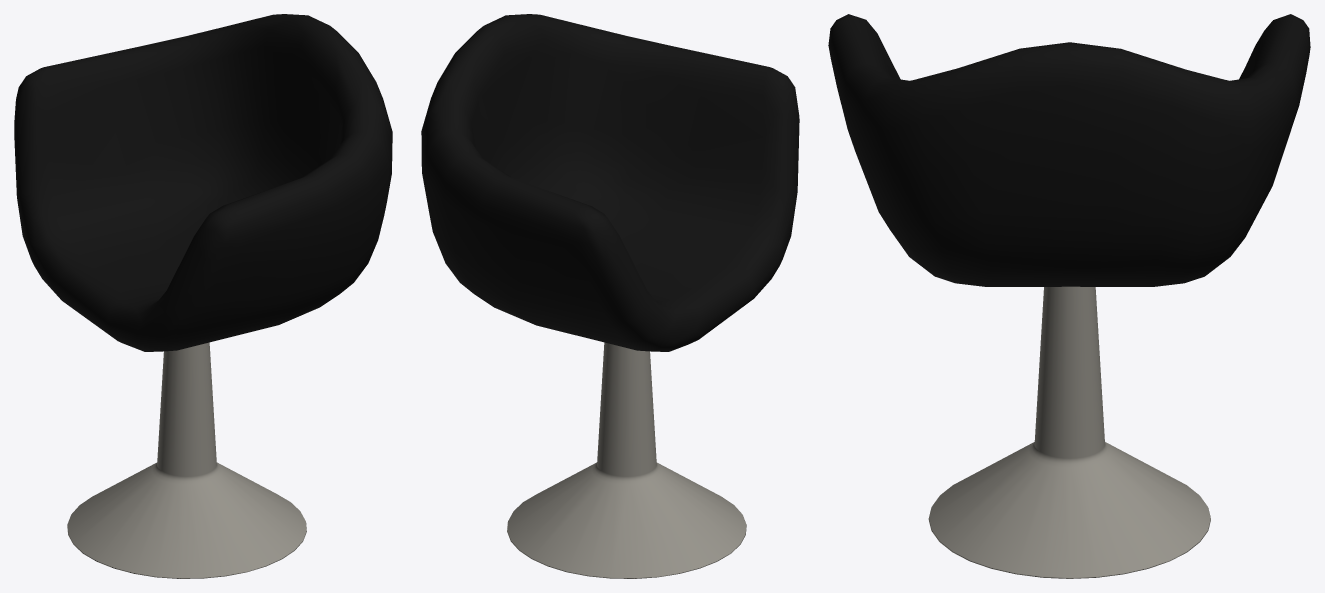
The model's file is chair_09_black.fbx.
3 views of the same model, side by side, from view 1: azimuth 30°, elevation 25°; view 2: azimuth 150°, elevation 25°; view 3: azimuth 270°, elevation 25° (orthographic). The views are drawn at different scales.
Visible parts, largest first — view 1: chair_09_black; view 2: chair_09_black; view 3: chair_09_black.
Part boxes in pixels (x1=…): chair_09_black: x1=14, y1=14, x2=392, y2=578; chair_09_black: x1=421, y1=14, x2=799, y2=578; chair_09_black: x1=828, y1=14, x2=1310, y2=578.
Size of the model in its own units: 53.94 by 92.73 by 73.24.
Materials: 2 (2 with a texture image).
